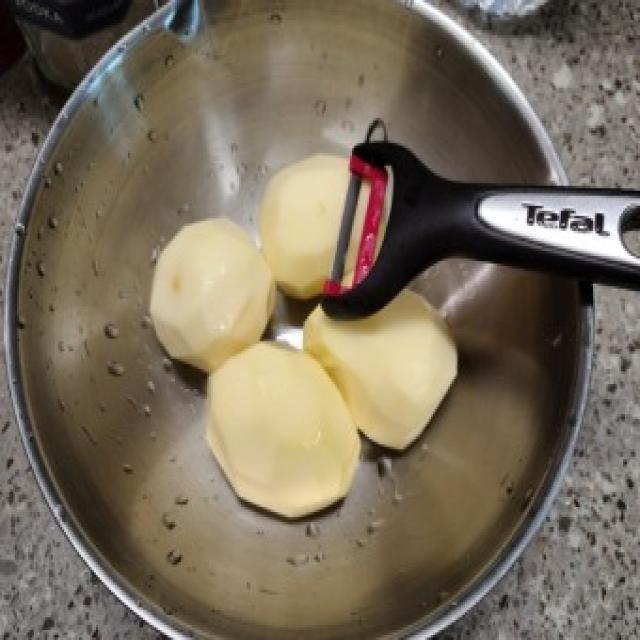potato: (300, 266, 460, 456), (202, 336, 362, 522), (147, 211, 274, 376), (258, 148, 391, 302)
